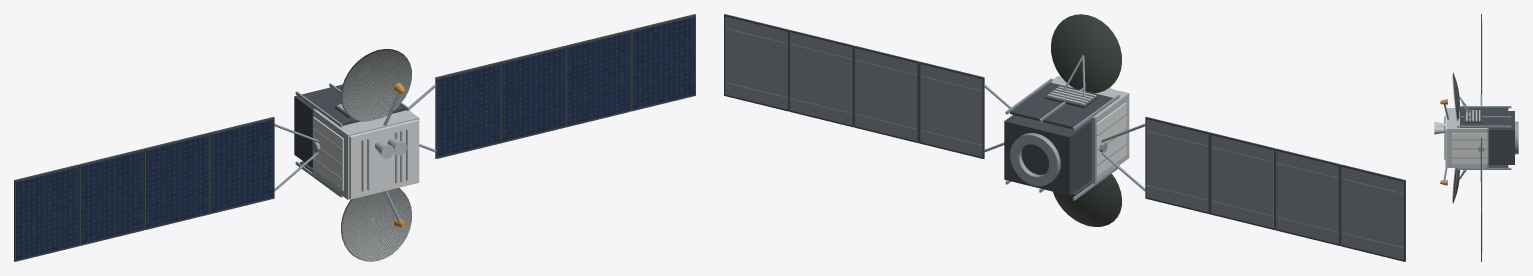
The model's file is amc-21-geostar.glb.
3 renders of one model, left to right at view 1: azimuth 30°, elevation 25°; view 2: azimuth 150°, elevation 25°; view 3: azimuth 270°, elevation 25°, orthographic. The views are drawn at different scales.
Visible parts, largest first — view 1: Solar cell panel (×8), Communications reflector (×2), Front polarization grid (×2), Solar panel frame (×8), Earth-facing deck, Payload module, Radiator face, Service module, Equipment bay sidewall; view 2: Rear array substrate (×8), Communications reflector (×2), Solar panel frame (×8), Service module, Equipment bay sidewall, Launch adapter ring, Radiator face, Payload module; view 3: Service module, Radiator face, Equipment bay sidewall (×2), Payload module, Equipment bay longeron (×4), Communications reflector (×2), Louvre surround, Front polarization grid (×2), Launch adapter ring, Radiator seam (×2), Earth-facing deck, Payload feed cluster (+2 smaller).
Boxes of the visible parts, x1,y1,x2,y2 form: Solar cell panel (×8): (16, 16, 694, 259); Communications reflector (×2): (341, 49, 411, 261); Front polarization grid (×2): (342, 50, 411, 261); Solar panel frame (×8): (14, 14, 695, 261); Earth-facing deck: (349, 119, 419, 199); Payload module: (314, 110, 419, 199); Radiator face: (313, 117, 343, 190); Service module: (294, 84, 341, 167); Equipment bay sidewall: (302, 84, 405, 125); Rear array substrate (×8): (725, 16, 1403, 259); Communications reflector (×2): (1051, 14, 1121, 226); Solar panel frame (×8): (724, 14, 1405, 261); Service module: (1004, 115, 1091, 195); Equipment bay sidewall: (1010, 82, 1112, 129); Launch adapter ring: (1010, 133, 1060, 186); Radiator face: (1096, 102, 1126, 176); Payload module: (1051, 76, 1129, 181); Service module: (1488, 111, 1514, 164); Radiator face: (1452, 133, 1487, 164); Equipment bay sidewall (×2): (1460, 107, 1508, 167); Payload module: (1447, 108, 1486, 167); Equipment bay longeron (×4): (1457, 106, 1511, 169); Communications reflector (×2): (1453, 72, 1459, 203); Louvre surround: (1464, 110, 1481, 122); Front polarization grid (×2): (1452, 73, 1457, 202); Launch adapter ring: (1515, 121, 1518, 154); Radiator seam (×2): (1453, 139, 1486, 158); Earth-facing deck: (1445, 112, 1446, 166); Payload feed cluster: (1434, 125, 1444, 134).
Size of the model in its own units: 21.98 by 6.5 by 3.93.
9 materials, 2 textured.
